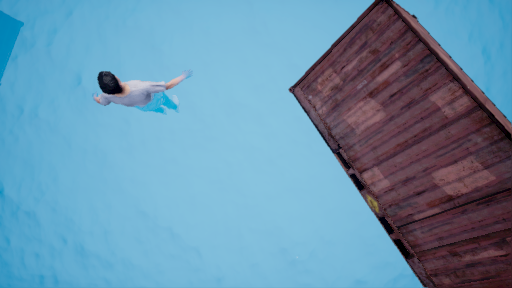person: (94, 65, 194, 121)
